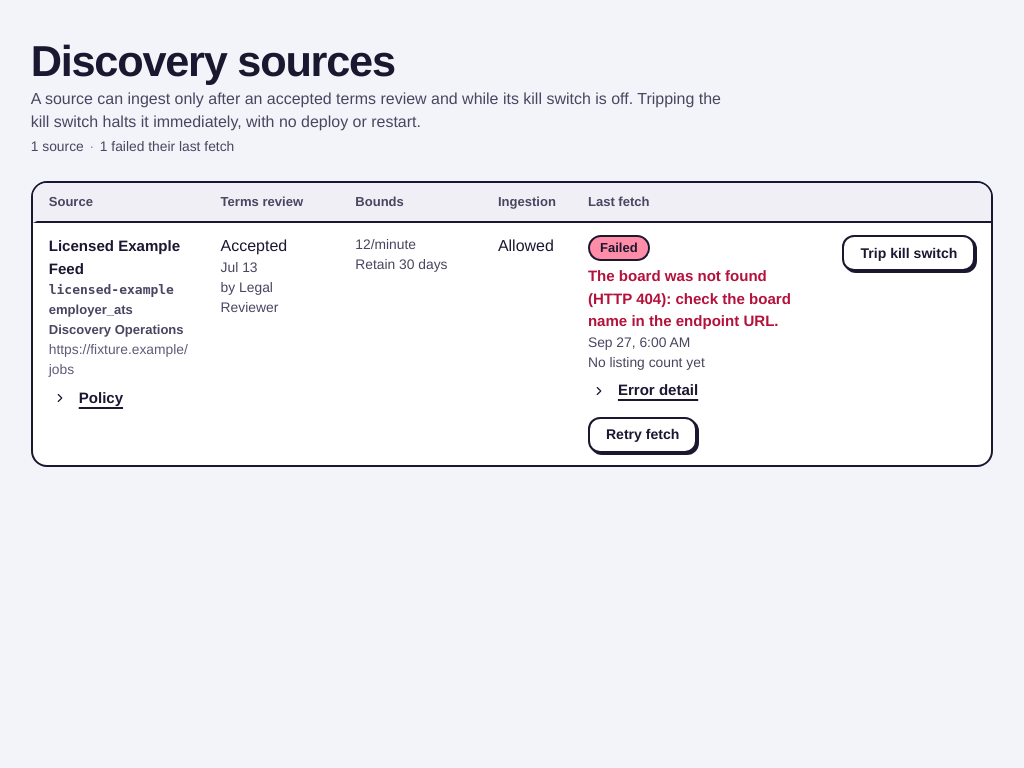
Test: AdminDiscoverySourcesPage › retries a failed employer board and puts the new outcome in its row
The width and height of the screenshot is (1024, 768).
Click the button "Retry fetch".
click(643, 434)  # box [588, 416, 697, 452]
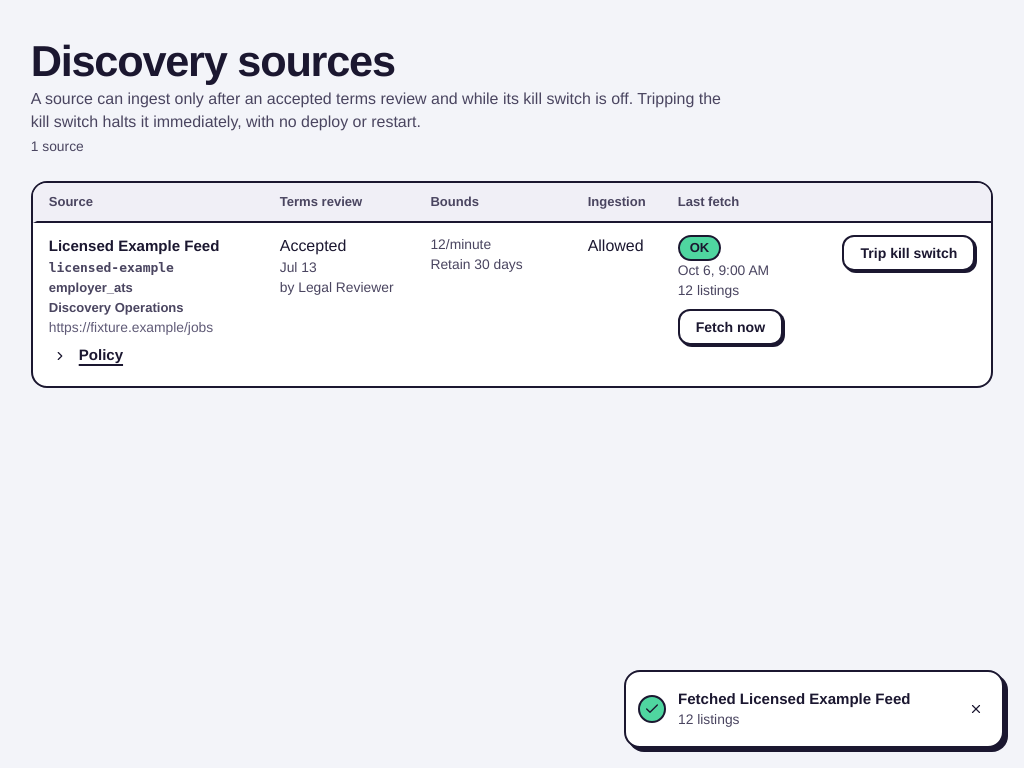
Result: the text "Fetched Licensed Example Feed" is shown at [678, 688, 946, 710]
Result: the number of list items "12 listings" is 2 at [678, 281, 739, 301]; [678, 711, 740, 728]
Result: the list item "failed" is gone
